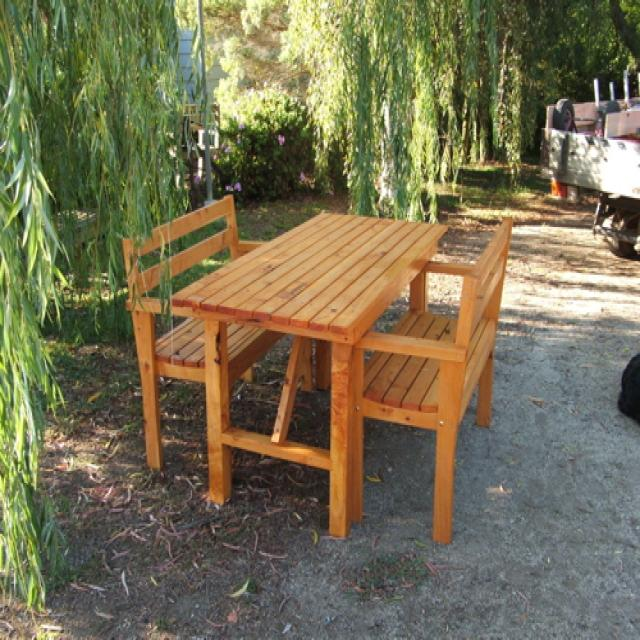table: (171, 212, 446, 538)
